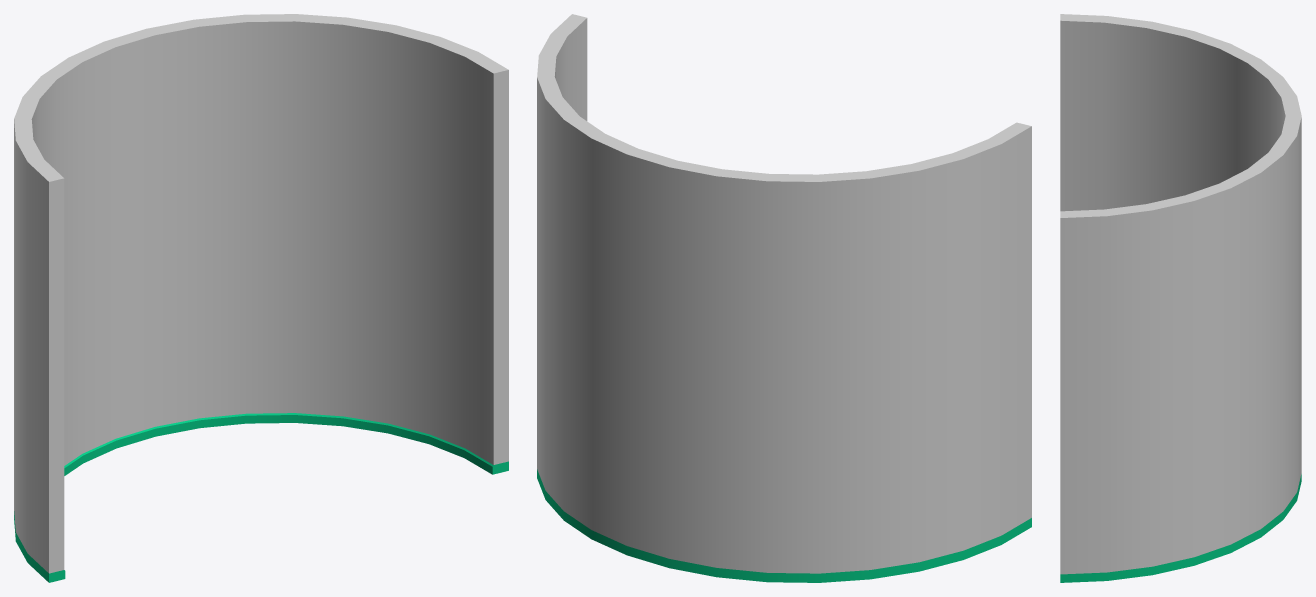
Rendered from WallElement_round.fbx.
3 renders of one model, left to right at view 1: azimuth 30°, elevation 25°; view 2: azimuth 150°, elevation 25°; view 3: azimuth 270°, elevation 25°, orthographic. The views are drawn at different scales.
Visible parts, largest first — view 1: WallElement_round; view 2: WallElement_round; view 3: WallElement_round.
Boxes of the visible parts, x1=… form: WallElement_round: x1=14, y1=14, x2=508, y2=582; WallElement_round: x1=537, y1=14, x2=1031, y2=582; WallElement_round: x1=1060, y1=14, x2=1301, y2=582.
Bounding box in the file's own units: 600 × 500 × 300.
